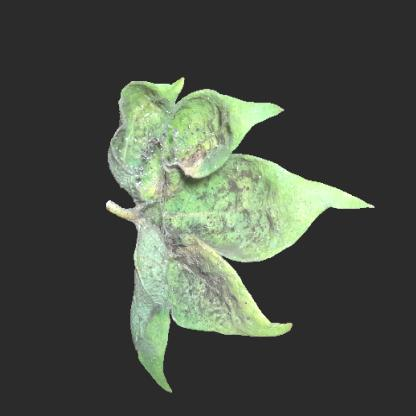curl_stage1: (273, 177, 321, 211), (248, 312, 282, 340), (230, 103, 261, 127)
sooty: (143, 228, 233, 320), (115, 109, 168, 203), (222, 171, 273, 247), (173, 101, 225, 165), (169, 174, 226, 229)
